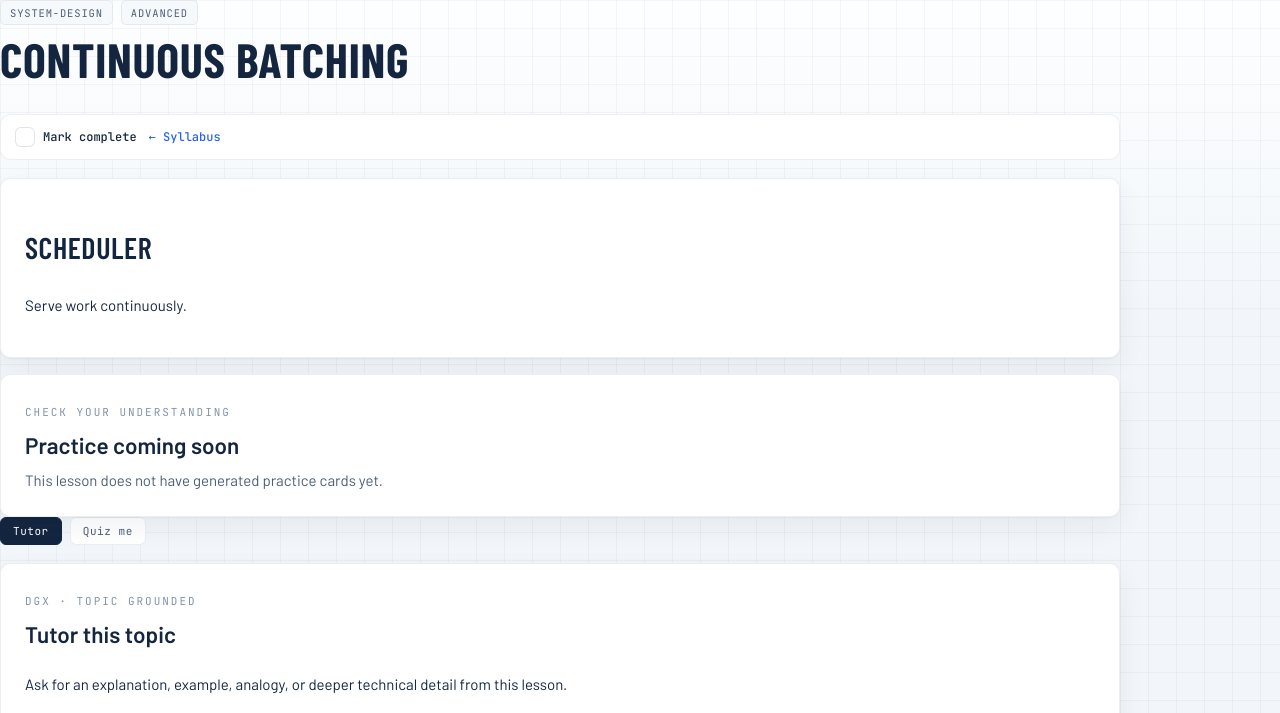
Test: TopicDetail grounded tutor › does not let a late quiz opening overwrite a return to tutor mode
Expected: the heading "Continuous batching" is shown, [0, 30, 409, 88]
Step 1. Click the button "Quiz me" → (108, 531), box [70, 517, 146, 545]
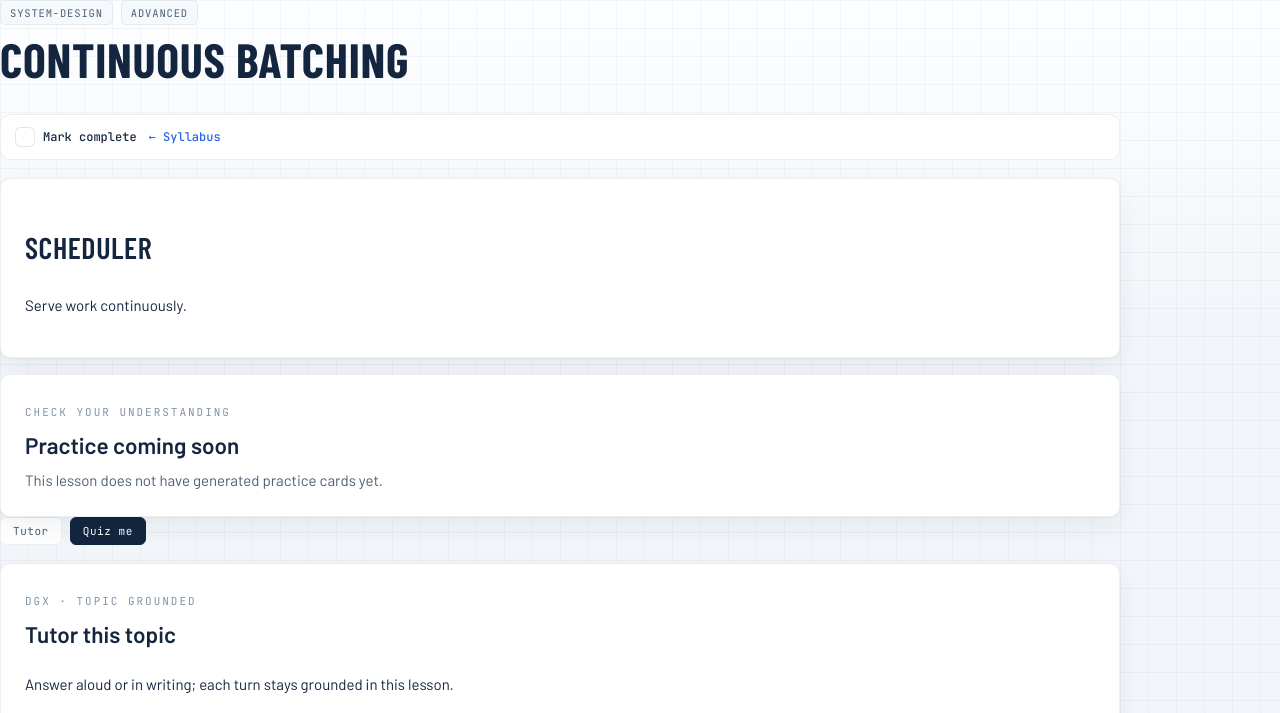
Step 2. Click the button "Tutor" → (31, 531), box [0, 517, 62, 545]
(page scrolled)
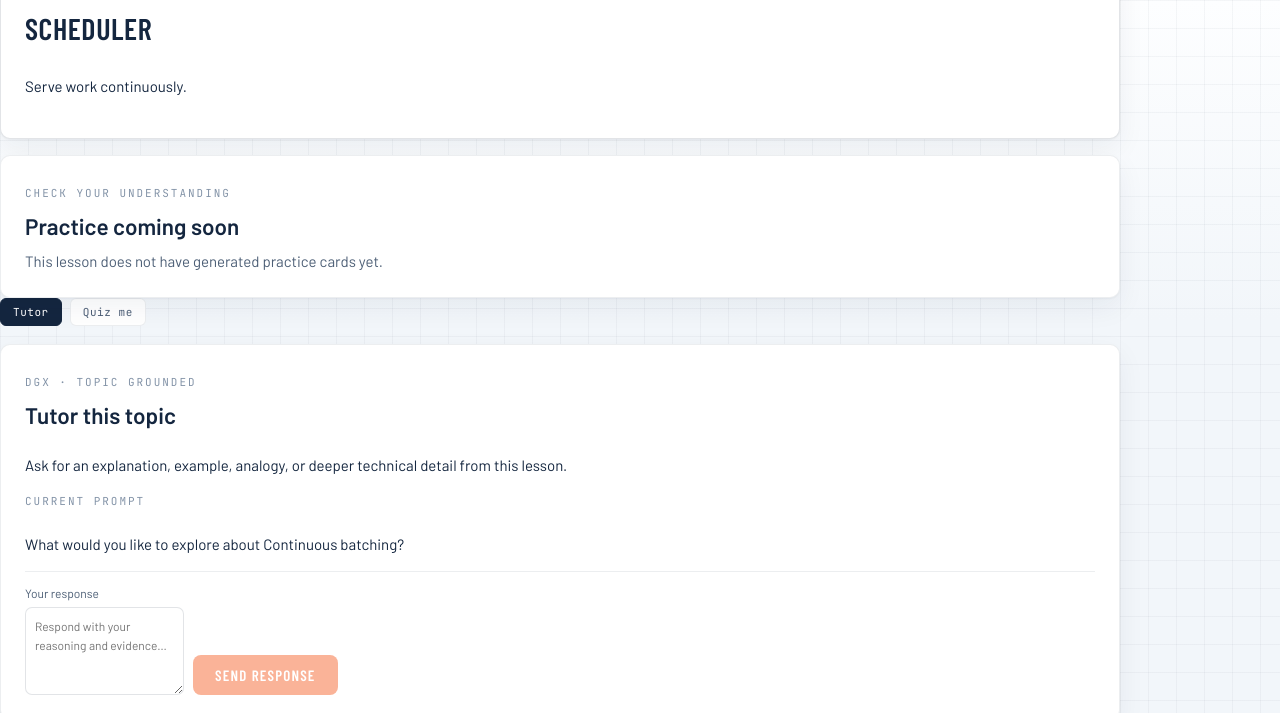
Result: the text "What would you like to explore about Continuous batching?" is shown at [25, 535, 404, 553]
